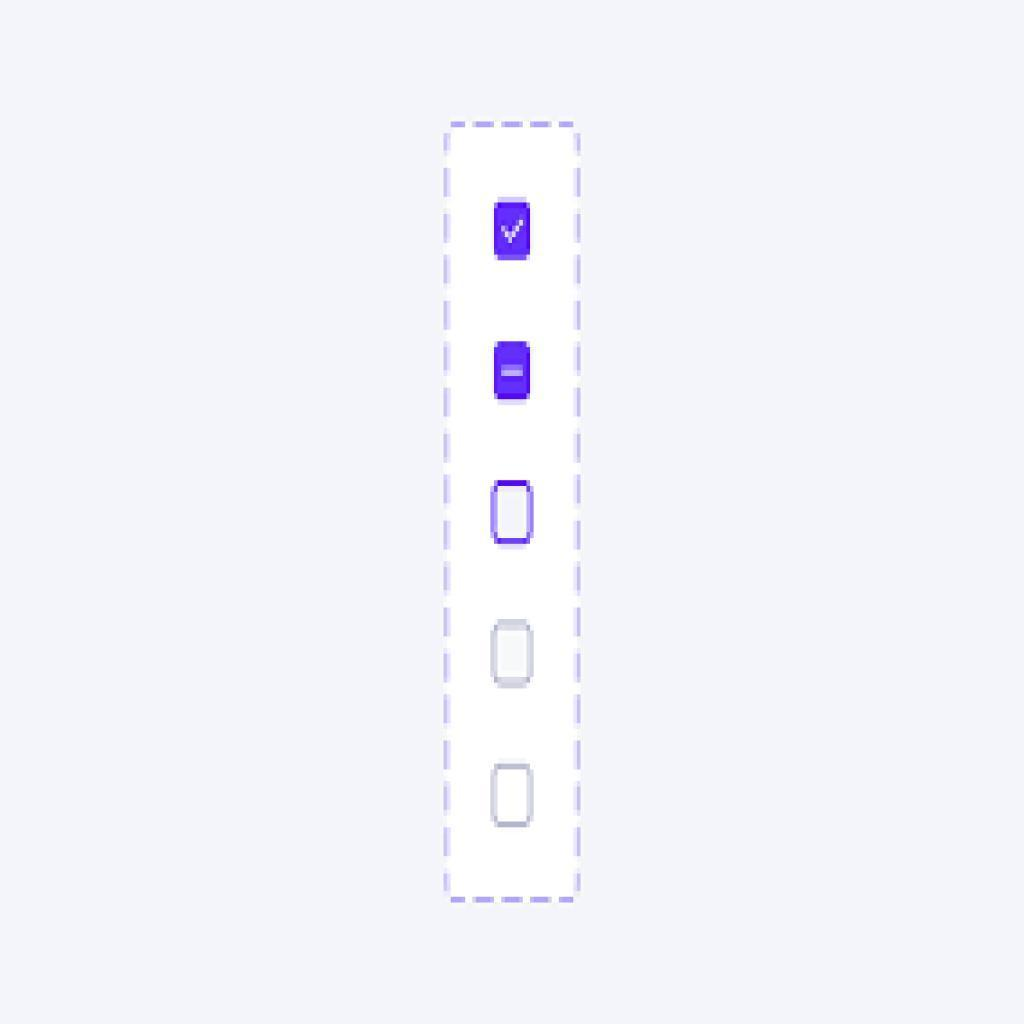checkbox: (492, 481, 534, 545), (494, 765, 535, 825), (495, 625, 534, 685), (494, 343, 532, 399), (496, 203, 530, 260)
